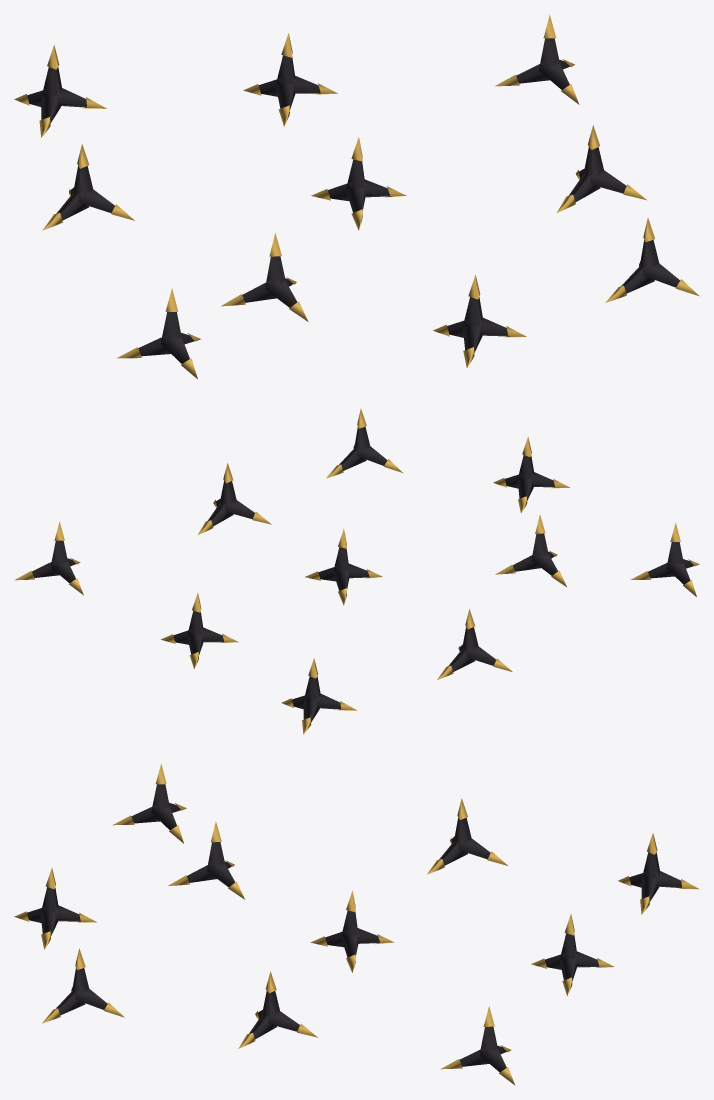
Rendered from consumable_spikes.glb.
3 renders of one model, top to bottom at view 1: azimuth 30°, elevation 25°; view 2: azimuth 150°, elevation 25°; view 3: azimuth 270°, elevation 25°, orthographic. The views are drawn at different scales.
Parts seen in each view (by area): view 1: spike_10, spike_07, spike_04, spike_01, spike_02, spike_05, spike_09, spike_06, spike_08, spike_03; view 2: spike_10, spike_07, spike_04, spike_01, spike_02, spike_05, spike_09, spike_06, spike_03, spike_08; view 3: spike_10, spike_07, spike_04, spike_01, spike_02, spike_05, spike_09, spike_06, spike_08, spike_03.
Part boxes in pixels (left/top/right/bottom): spike_10: left=14, top=45, right=106, bottom=137; spike_07: left=433, top=275, right=526, bottom=367; spike_04: left=243, top=33, right=337, bottom=126; spike_01: left=311, top=137, right=406, bottom=230; spike_02: left=557, top=125, right=646, bottom=212; spike_05: left=42, top=144, right=134, bottom=230; spike_09: left=117, top=288, right=201, bottom=379; spike_06: left=495, top=14, right=579, bottom=104; spike_08: left=605, top=218, right=699, bottom=302; spike_03: left=221, top=233, right=308, bottom=321; spike_10: left=281, top=658, right=356, bottom=734; spike_07: left=493, top=436, right=569, bottom=513; spike_04: left=161, top=592, right=238, bottom=669; spike_01: left=305, top=528, right=382, bottom=605; spike_02: left=198, top=463, right=271, bottom=534; spike_05: left=437, top=609, right=512, bottom=679; spike_09: left=630, top=522, right=699, bottom=596; spike_06: left=14, top=521, right=83, bottom=595; spike_03: left=495, top=514, right=566, bottom=586; spike_08: left=326, top=409, right=402, bottom=478; spike_10: left=618, top=833, right=699, bottom=914; spike_07: left=14, top=868, right=96, bottom=949; spike_04: left=531, top=914, right=614, bottom=995; spike_01: left=310, top=890, right=394, bottom=972; spike_02: left=238, top=971, right=317, bottom=1048; spike_05: left=427, top=798, right=507, bottom=874; spike_09: left=112, top=764, right=186, bottom=843; spike_06: left=440, top=1006, right=515, bottom=1085; spike_08: left=42, top=948, right=124, bottom=1023; spike_03: left=168, top=821, right=244, bottom=899.
Bounding box in the file's own units: 0.2403 × 0.0253 × 0.2511.
